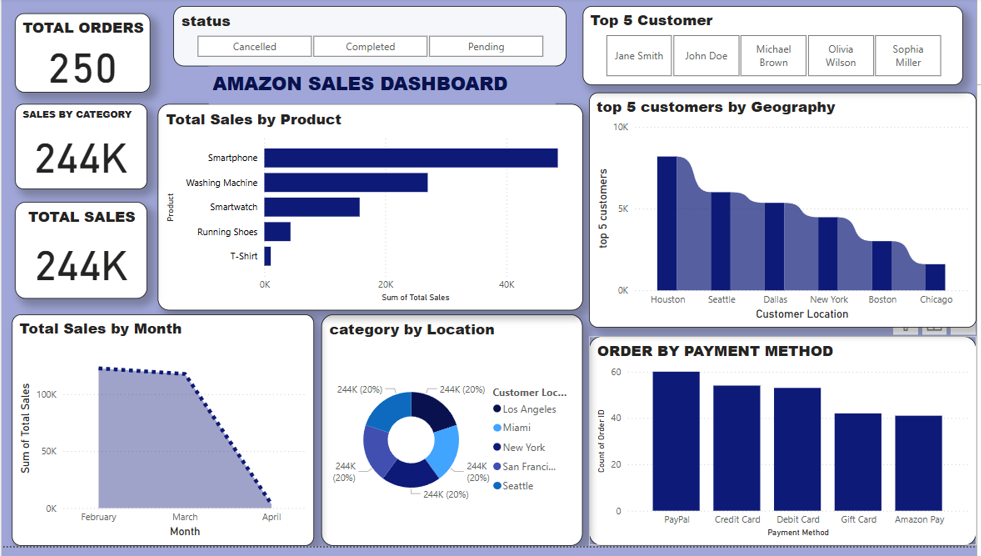

This screenshot's page, from the dashboard's own definition file:
{"tool":"powerbi","page":{"name":"Page 1","canvas":[1280,720],"ordinal":0},"visuals":[{"type":"columnChart","title":"ORDER BY PAYMENT METHOD","fields":{"Category":["amazon_sales_data 2025.Payment Method"],"Y":["amazon_sales_data 2025.Order ID"]},"box":[771.4,444.5,508.8,274.9],"z":0},{"type":"donutChart","title":" category by  Location","fields":{"Y":["amazon_sales_data 2025.sales by category"],"Category":["amazon_sales_data 2025.Customer Location"]},"box":[419.9,415.8,343.3,303.7],"z":1000},{"type":"barChart","title":"Total Sales by Product","fields":{"Y":["amazon_sales_data 2025.Total Sales"],"Category":["amazon_sales_data 2025.Product"]},"box":[205.2,139.5,558.1,270.8],"z":2000},{"type":"stackedAreaChart","title":"Total Sales by Month","fields":{"Category":["amazon_sales_data 2025.Date.Variation.Date Hierarchy.Month"],"Y":["amazon_sales_data 2025.Total Sales"]},"box":[13.7,415.8,396.7,303.7],"z":3000},{"type":"card","title":"TOTAL SALES","fields":{"Values":["amazon_sales_data 2025.amzon total sales"]},"box":[17.8,268.1,173.7,127.2],"z":4000},{"type":"card","title":"TOTAL ORDERS","fields":{"Values":["amazon_sales_data 2025.total orders"]},"box":[17.8,20.5,177.8,104],"z":5000},{"type":"slicer","title":"status","fields":{"Values":["amazon_sales_data 2025.Status"]},"box":[225.7,10.9,515.7,79.3],"z":6000},{"type":"ribbonChart","title":"top 5 customers by Geography","fields":{"Category":["amazon_sales_data 2025.Customer Location"],"Y":["amazon_sales_data 2025.top 5 customers"]},"box":[771.4,124.5,508.8,309.1],"z":7000},{"type":"card","title":"SALES BY CATEGORY","fields":{"Values":["amazon_sales_data 2025.sales by category"]},"box":[17.8,139.5,173.7,112.2],"z":8000},{"type":"slicer","title":"Top 5 Customer","fields":{"Values":["amazon_sales_data 2025.Customer Name"]},"box":[763.2,10.9,499.3,104],"z":9000},{"type":"textbox","box":[272.2,90.3,455.5,49.2],"z":10000}]}

Visuals, with their boxes in screenshot pixels (x1, y1, x2, y2), scaled from the page's 1280x720 canvas onto the 981x556 screenshot:
"ORDER BY PAYMENT METHOD" columnChart: 591, 343, 980, 555
" category by  Location" donutChart: 322, 321, 585, 555
"Total Sales by Product" barChart: 157, 108, 585, 317
"Total Sales by Month" stackedAreaChart: 10, 321, 315, 555
"TOTAL SALES" card: 14, 207, 147, 305
"TOTAL ORDERS" card: 14, 16, 150, 96
"status" slicer: 173, 8, 568, 70
"top 5 customers by Geography" ribbonChart: 591, 96, 980, 335
"SALES BY CATEGORY" card: 14, 108, 147, 194
"Top 5 Customer" slicer: 585, 8, 968, 89
textbox: 209, 70, 558, 108
